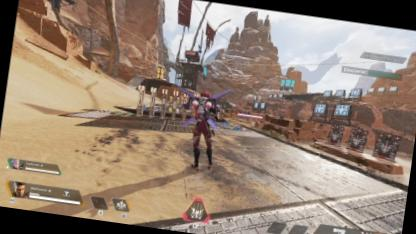Target: (186, 88, 222, 171)
